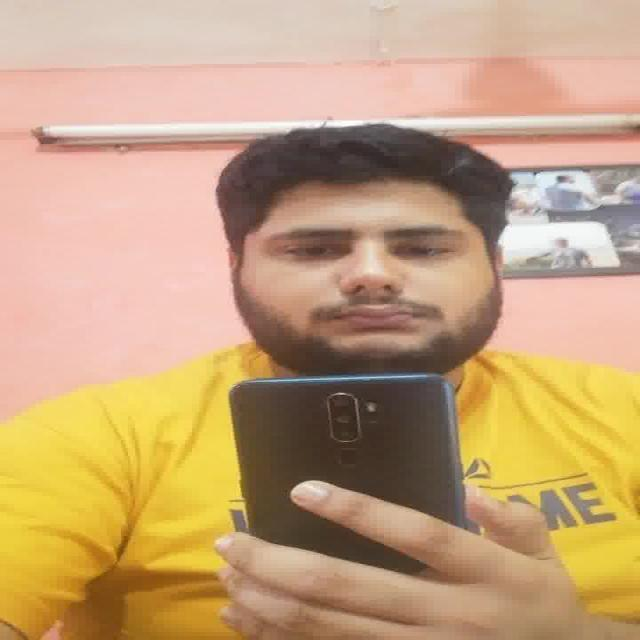Phone: (226, 372, 464, 569)
